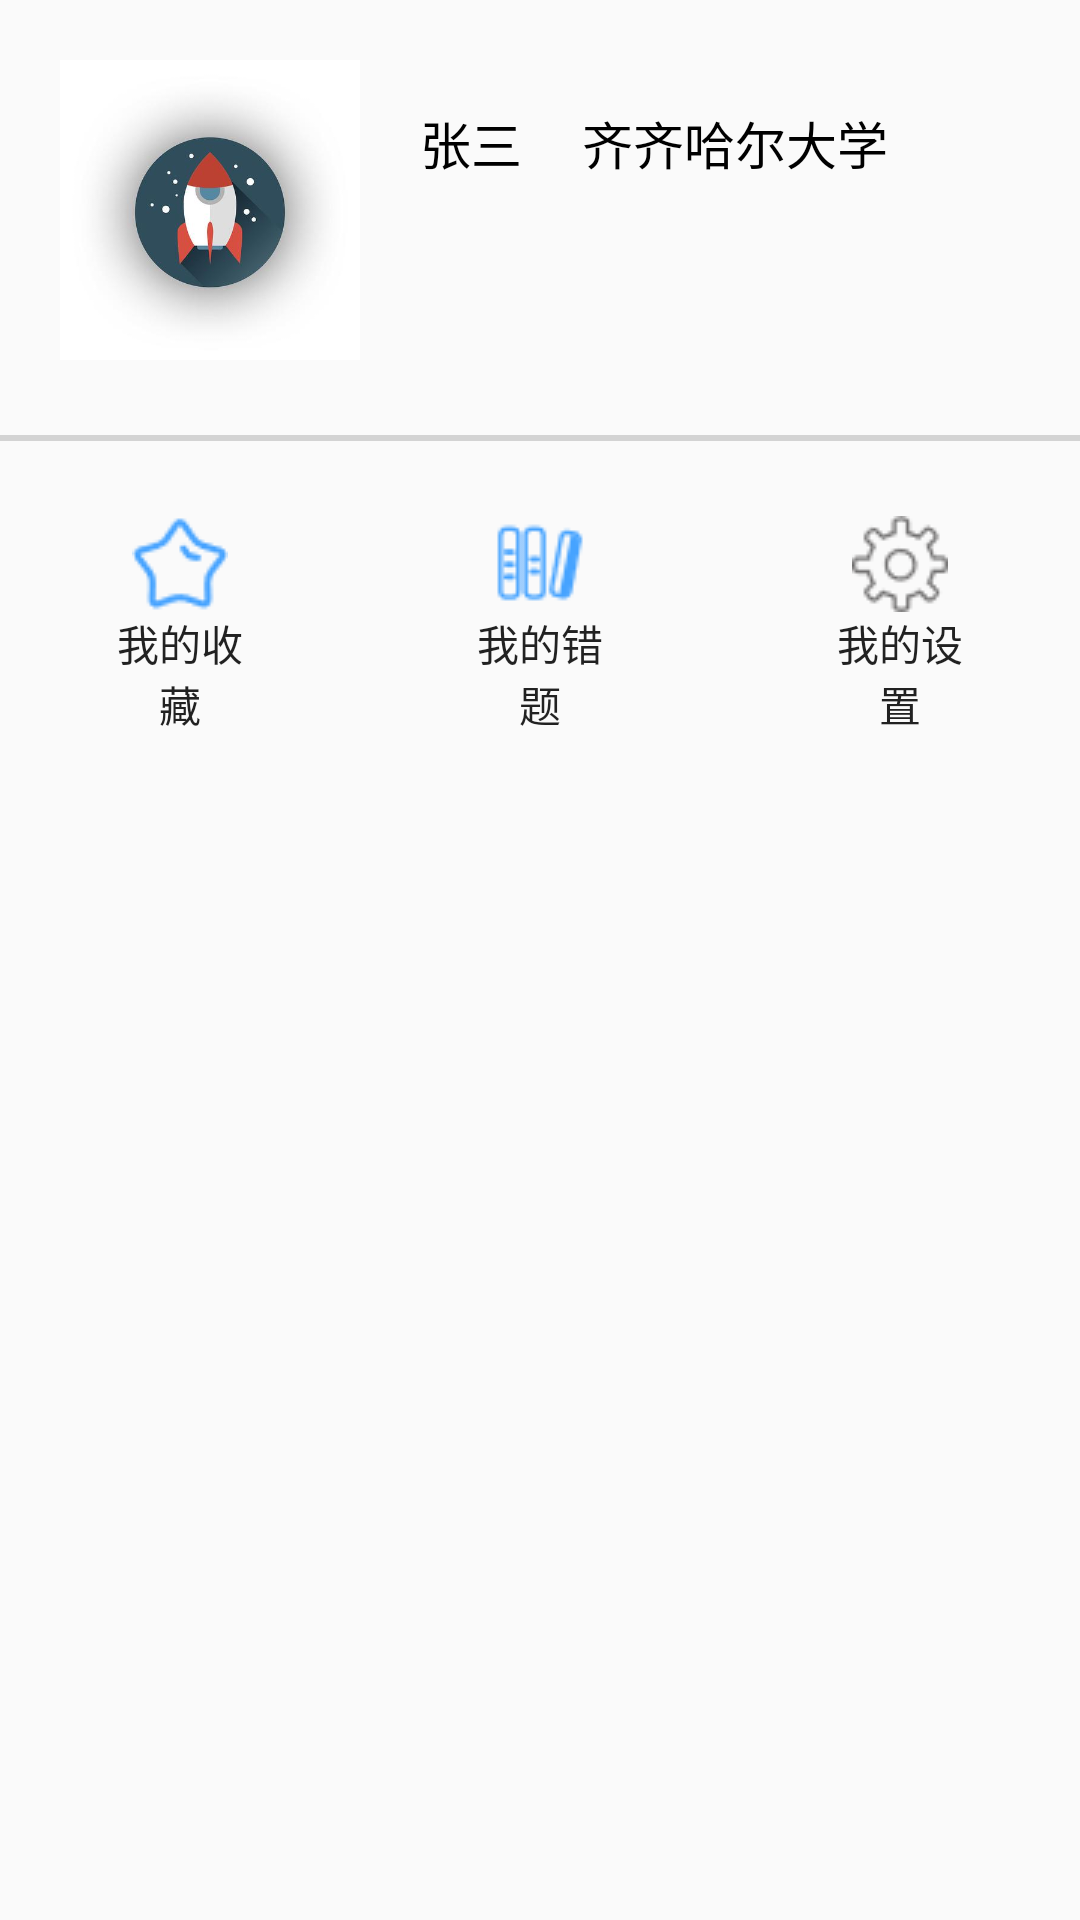

Point at icon controls on the screen. Image size 1080px x 1920px, points as point (x, y).
touxiang: point (209, 214)
